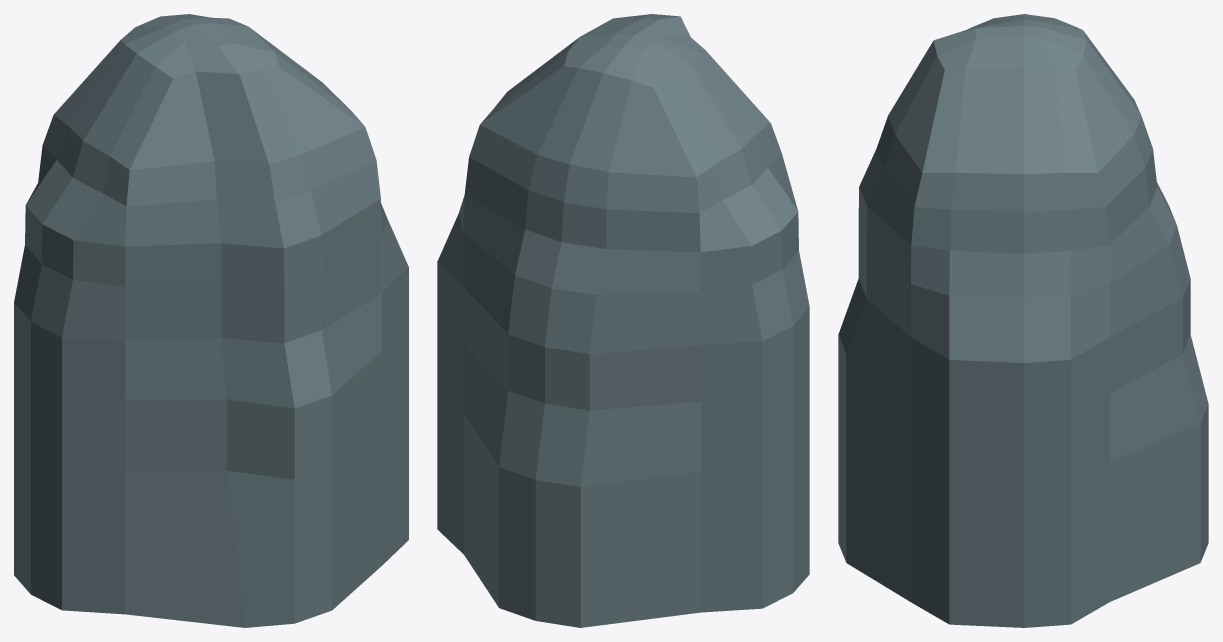
Rendered from камень.fbx.
3 renders of one model, left to right at view 1: azimuth 30°, elevation 25°; view 2: azimuth 150°, elevation 25°; view 3: azimuth 270°, elevation 25°, orthographic. The views are drawn at different scales.
Visible parts, largest first — view 1: Cube; view 2: Cube; view 3: Cube.
Boxes of the visible parts, x1,y1,x2,y2 form: Cube: (14, 14, 408, 627); Cube: (437, 14, 809, 627); Cube: (838, 14, 1208, 627).
Bounding box in the file's own units: 208 × 304 × 198.
